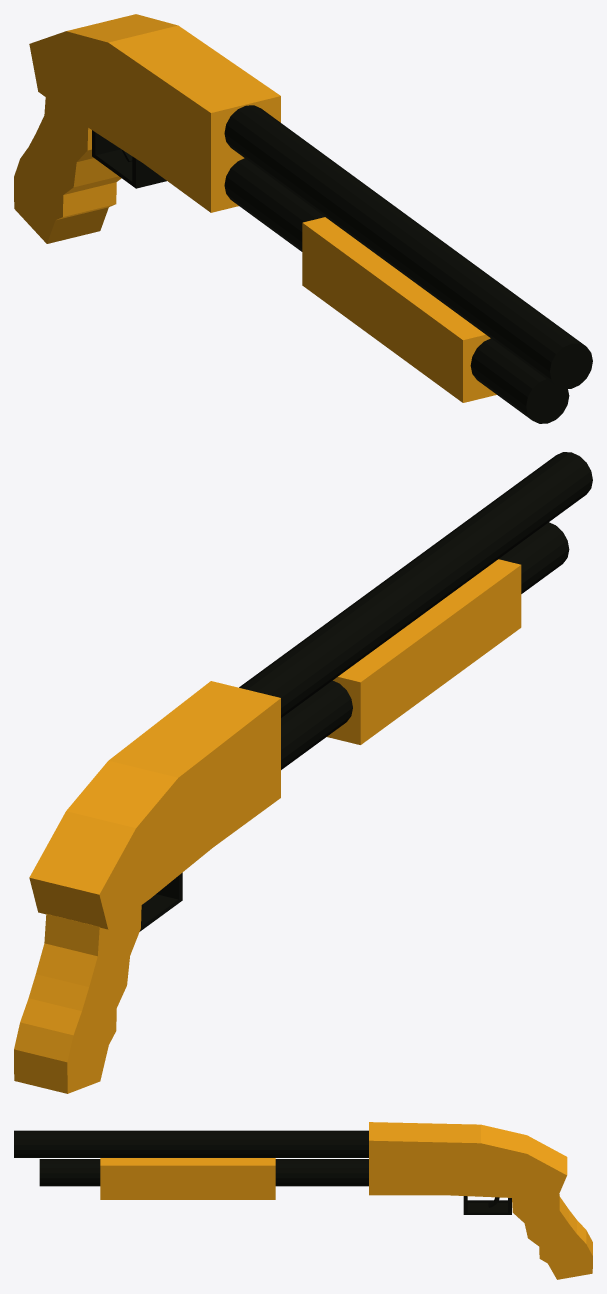
Rendered from ExportedBlenderFBXFile.fbx.
3 renders of one model, top to bottom at view 1: azimuth 30°, elevation 25°; view 2: azimuth 150°, elevation 25°; view 3: azimuth 270°, elevation 25°, orthographic. The views are drawn at different scales.
Visible parts, largest first — view 1: shotgun, pump; view 2: shotgun, pump; view 3: shotgun, pump.
Boxes of the visible parts, x1,y1,x2,y2 form: shotgun: (14, 14, 592, 423); pump: (302, 217, 496, 402); shotgun: (14, 452, 592, 1093); pump: (327, 559, 521, 744); shotgun: (14, 1122, 592, 1279); pump: (100, 1158, 275, 1199).
Size of the model in its own units: 0.3749 by 1.33 by 4.92.
